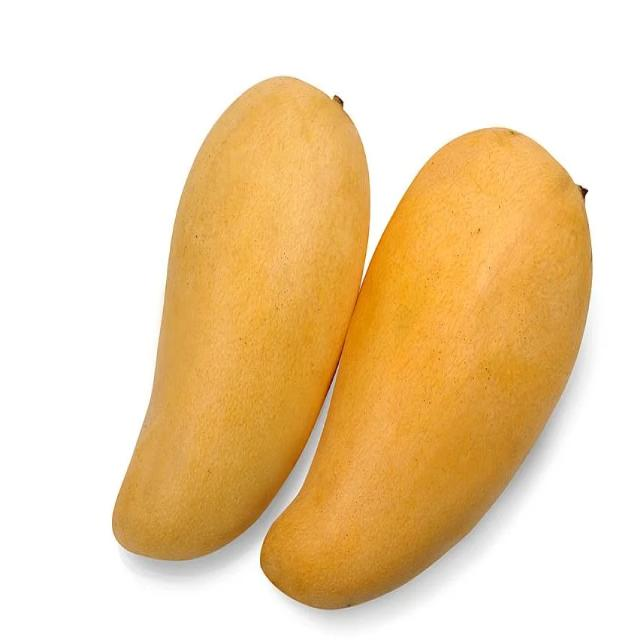organic: (263, 128, 601, 603), (102, 78, 374, 564)
